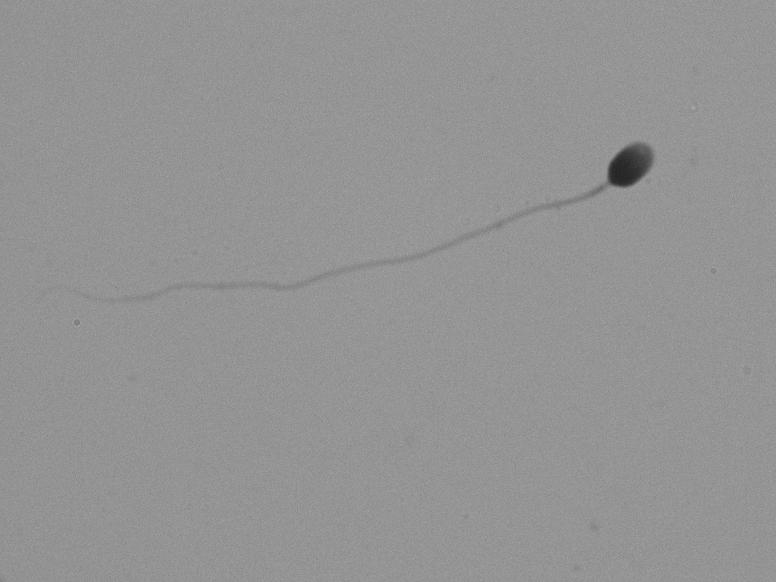Normal: (61, 79, 696, 406)
